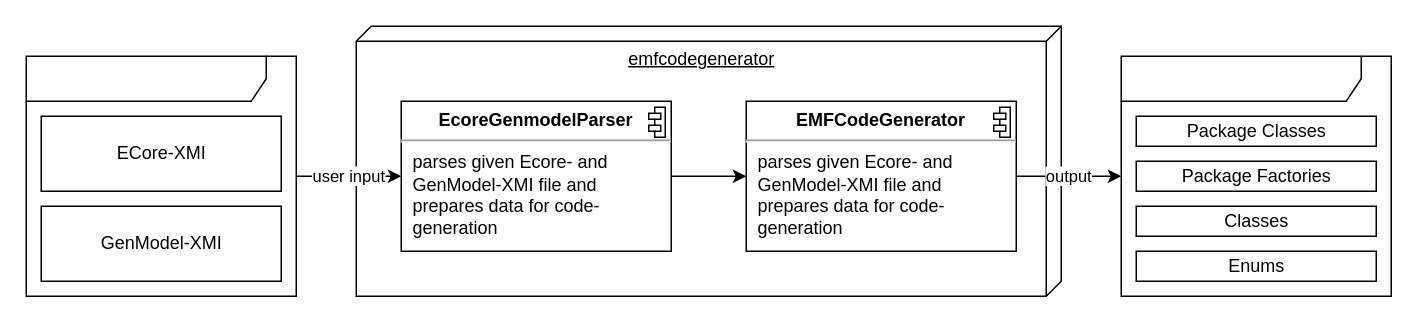
The diagram is 1418 pixels wide and 323 high, and some of its shapes have lost their labels. The shapes that lost their labels are listed below. From the top down, each one's box as (x1, y1, x2, y2) in pixels, then its label:
(25, 55, 296, 296): EMF-Meta-Model-Definition
(1120, 55, 1391, 296): SmartEMF runtime code
